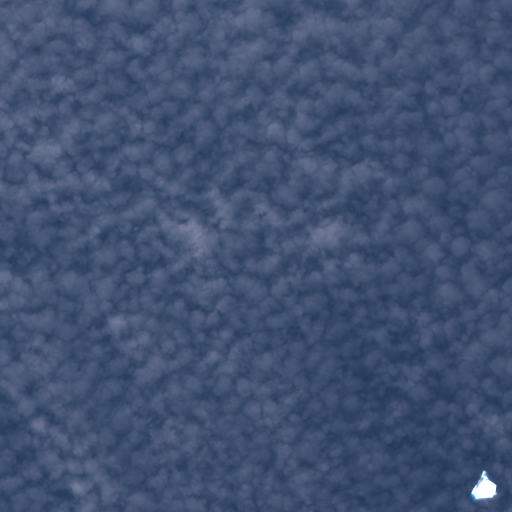Iceberg: (471, 470, 496, 498)
